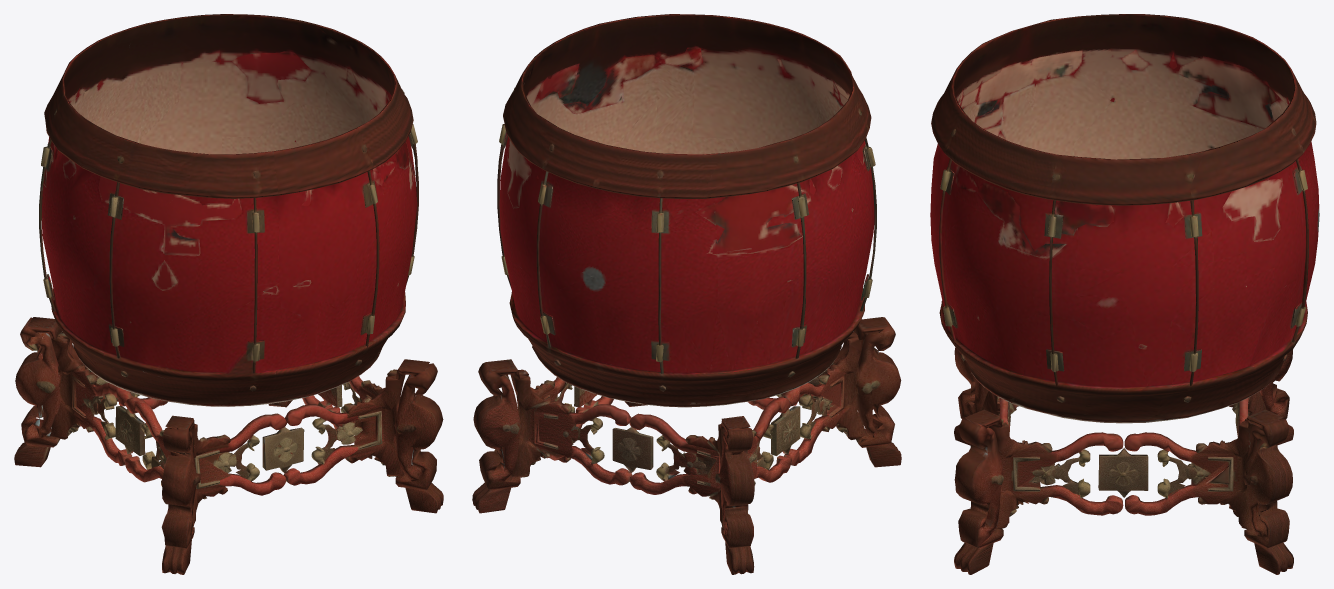
The model's file is trong-bat-nha.glb.
3 views of the same model, side by side, from view 1: azimuth 30°, elevation 25°; view 2: azimuth 150°, elevation 25°; view 3: azimuth 270°, elevation 25° (orthographic). The views are drawn at different scales.
Bounding box in the file's own units: 1.7 × 2 × 1.69.
1 material, 1 textured.
